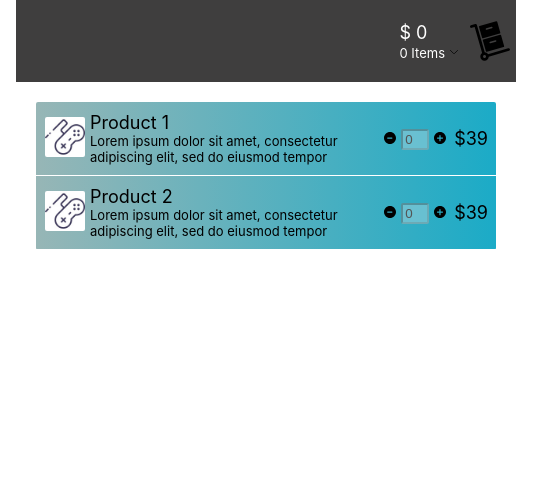
Product component › zooms out of product image on mouse interaction with other items
Click the 1st picture with test id "product-image-zoom" at [65, 136], box x1=45 y1=116 x2=85 y2=156
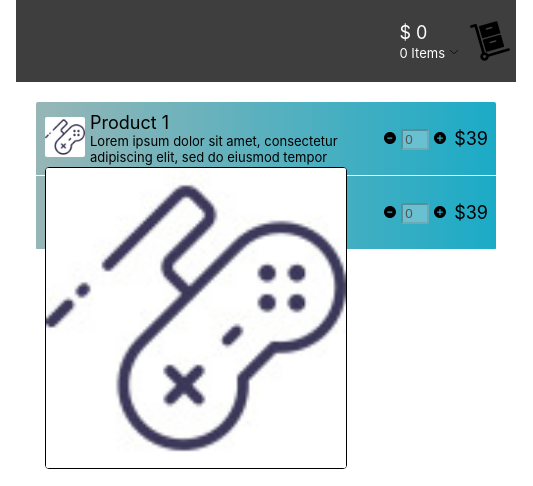
Expected: the number of elements with test id "product-image-on-zoom" is 1, x1=45 y1=166 x2=347 y2=468
Click the button with test id "cart-items-button" at [452, 52], box x1=445 y1=42 x2=460 y2=60
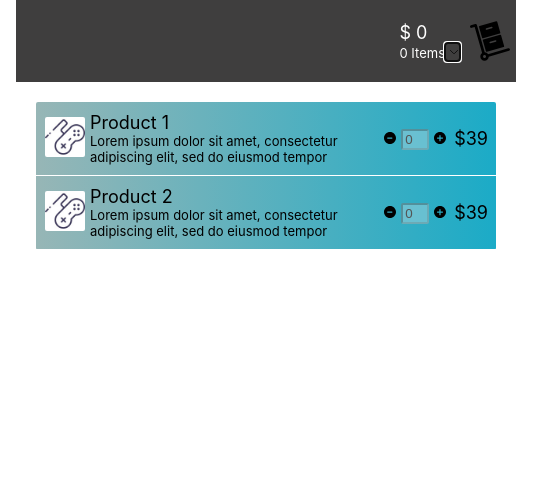
Expected: the element with test id "product-image-on-zoom" is gone
